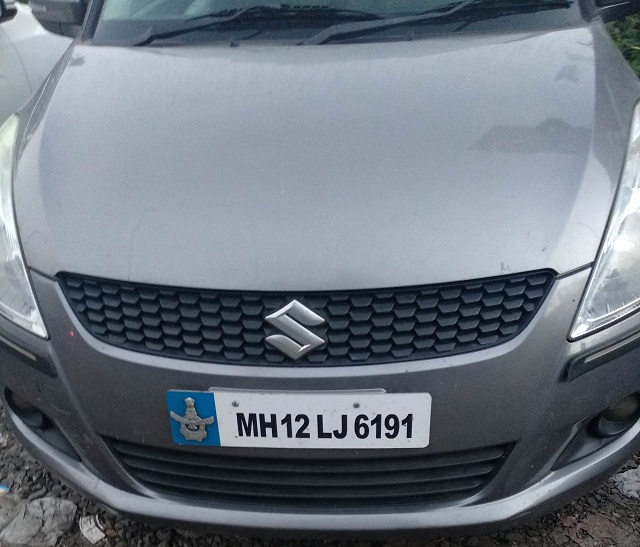licenseplate: (166, 387, 437, 456)
